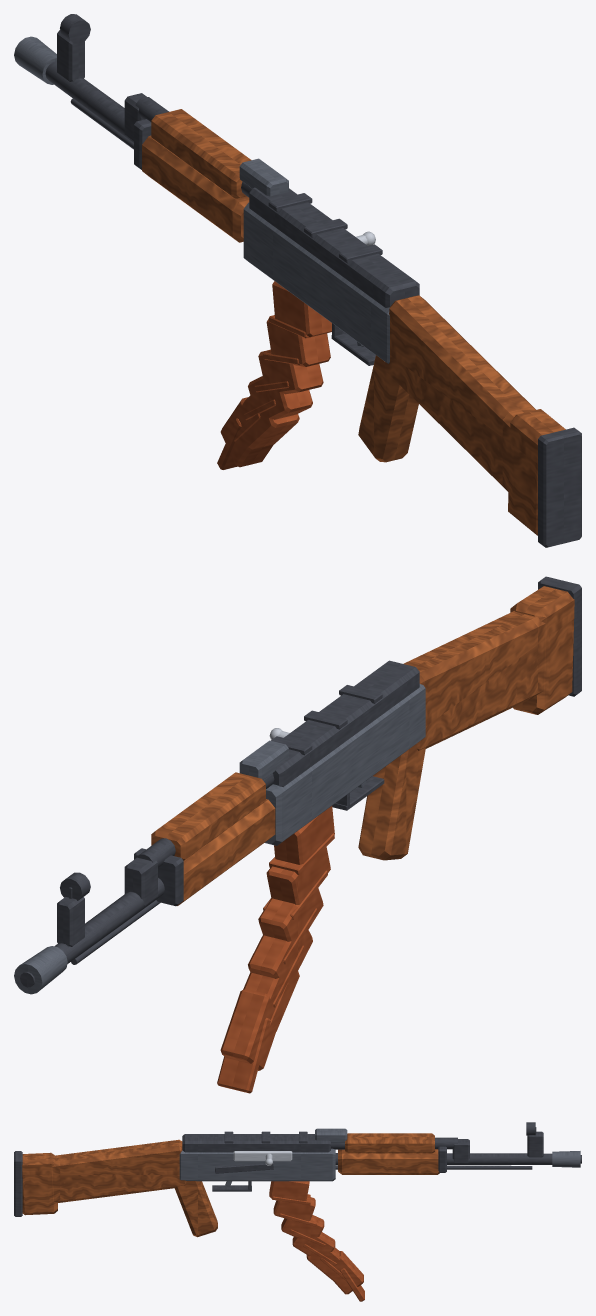
The model's file is weapon_ak47.glb.
The picture shows the model from 3 angles, top to bottom: view 1: azimuth 30°, elevation 25°; view 2: azimuth 150°, elevation 25°; view 3: azimuth 270°, elevation 25°; orthographic projection. The views are drawn at different scales.
Parts seen in each view (by area): view 1: WeaponRoot, Magazine; view 2: WeaponRoot, Magazine; view 3: WeaponRoot, Magazine, Bolt.
Part boxes in pixels (x1,y1,x2,y2): WeaponRoot: [14, 14, 581, 547]; Magazine: [217, 281, 331, 469]; WeaponRoot: [14, 576, 581, 994]; Magazine: [217, 806, 334, 1093]; WeaponRoot: [14, 1122, 581, 1237]; Magazine: [269, 1181, 364, 1301]; Bolt: [233, 1151, 292, 1165].
Bounding box in the file's own units: 0.0735 × 0.3128 × 0.917.
Materials: 5 (5 with a texture image).
